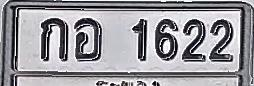1: (131, 18, 147, 61)
2: (209, 18, 233, 61), (182, 18, 206, 61)
6: (155, 17, 178, 60)
A01: (40, 17, 68, 61)
A43: (74, 17, 102, 61)
